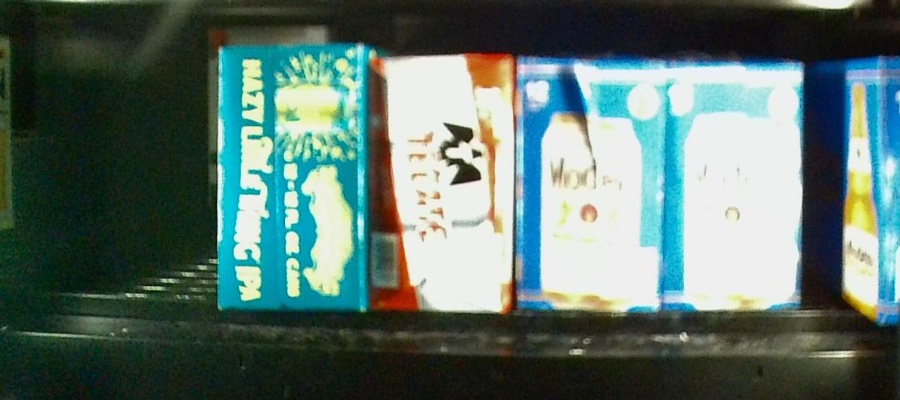bottle: (218, 43, 366, 314), (515, 51, 663, 317), (370, 54, 509, 314), (664, 60, 803, 307), (807, 56, 899, 326)
